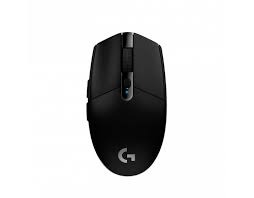mouse: (83, 27, 172, 176)
